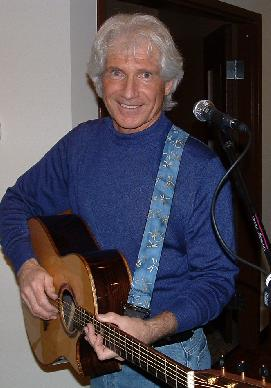guitar: (14, 216, 271, 388)
